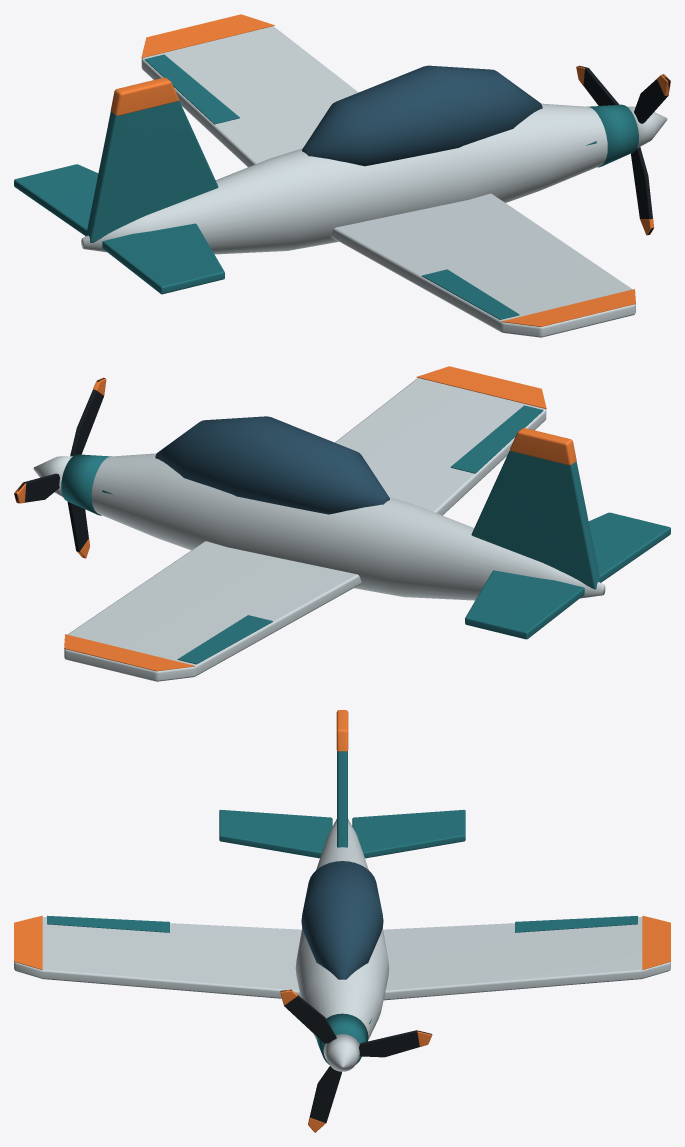
Rendered from electric_trainer.glb.
3 renders of one model, top to bottom at view 1: azimuth 30°, elevation 25°; view 2: azimuth 150°, elevation 25°; view 3: azimuth 270°, elevation 25°, orthographic. The views are drawn at different scales.
Parts seen in each view (by area): view 1: Fuselage, Straight wing_left, Cockpit canopy, Straight wing_right, Vertical stabilizer, Horizontal stabilizer_left, Horizontal stabilizer_right, Wingtip_right, Aileron marking_right, Wingtip_left, Electric motor cowling, Fin cap (+5 smaller); view 2: Fuselage, Straight wing_right, Cockpit canopy, Straight wing_left, Vertical stabilizer, Horizontal stabilizer_right, Horizontal stabilizer_left, Wingtip_left, Aileron marking_left, Wingtip_right, Electric motor cowling, Fin cap (+5 smaller); view 3: Straight wing_right, Straight wing_left, Cockpit canopy, Fuselage, Horizontal stabilizer_left, Horizontal stabilizer_right, Wingtip_left, Wingtip_right, Aileron marking_left, Aileron marking_right, Propeller blade_1, Propeller blade_2 (+4 smaller).
Part boxes in pixels (bbox=[...]): Fuselage: bbox=[81, 103, 607, 254]; Straight wing_left: bbox=[331, 193, 635, 337]; Cockpit canopy: bbox=[302, 65, 542, 166]; Straight wing_right: bbox=[141, 26, 358, 167]; Vertical stabilizer: bbox=[86, 101, 218, 242]; Horizontal stabilizer_left: bbox=[102, 223, 224, 294]; Horizontal stabilizer_right: bbox=[14, 164, 98, 236]; Wingtip_right: bbox=[141, 14, 274, 58]; Aileron marking_right: bbox=[144, 54, 239, 124]; Wingtip_left: bbox=[501, 289, 635, 326]; Electric motor cowling: bbox=[587, 104, 638, 167]; Fin cap: bbox=[110, 77, 179, 115]; Fuselage: bbox=[91, 453, 605, 600]; Straight wing_right: bbox=[64, 541, 361, 681]; Cockpit canopy: bbox=[155, 416, 389, 514]; Straight wing_left: bbox=[335, 378, 546, 515]; Vertical stabilizer: bbox=[471, 451, 600, 589]; Horizontal stabilizer_right: bbox=[465, 570, 584, 639]; Horizontal stabilizer_left: bbox=[588, 512, 670, 582]; Wingtip_left: bbox=[416, 366, 546, 408]; Aileron marking_left: bbox=[450, 405, 543, 473]; Wingtip_right: bbox=[64, 634, 194, 671]; Electric motor cowling: bbox=[61, 454, 111, 515]; Fin cap: bbox=[509, 428, 576, 465]; Straight wing_right: bbox=[383, 917, 670, 1000]; Straight wing_left: bbox=[14, 917, 301, 998]; Cockpit canopy: bbox=[301, 861, 383, 979]; Fuselage: bbox=[295, 819, 389, 1040]; Horizontal stabilizer_left: bbox=[219, 810, 332, 858]; Horizontal stabilizer_right: bbox=[352, 810, 465, 858]; Wingtip_left: bbox=[14, 915, 42, 969]; Wingtip_right: bbox=[642, 915, 670, 969]; Aileron marking_left: bbox=[47, 915, 169, 932]; Aileron marking_right: bbox=[515, 915, 637, 932]; Propeller blade_1: bbox=[359, 1030, 432, 1057]; Propeller blade_2: bbox=[280, 989, 336, 1043].
Size of the model in its own units: 6.83 by 2.88 by 8.
